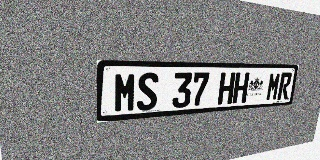3: (172, 73, 192, 108)
7: (190, 73, 210, 107)
H: (217, 73, 236, 105), (232, 72, 250, 104)
M: (114, 73, 137, 113), (265, 72, 281, 101)
R: (277, 72, 292, 100)
S: (136, 73, 159, 111)
